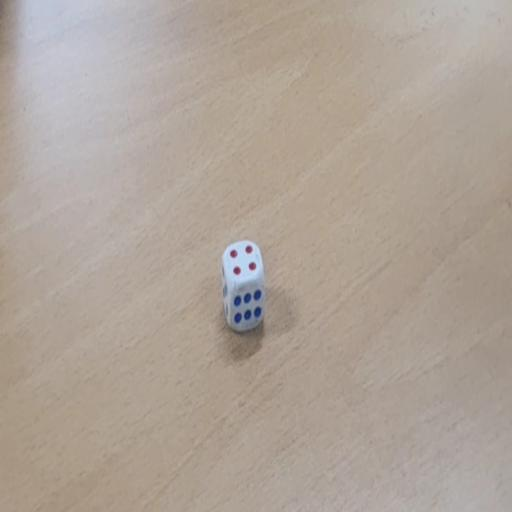dice_4: (221, 236, 267, 333)
